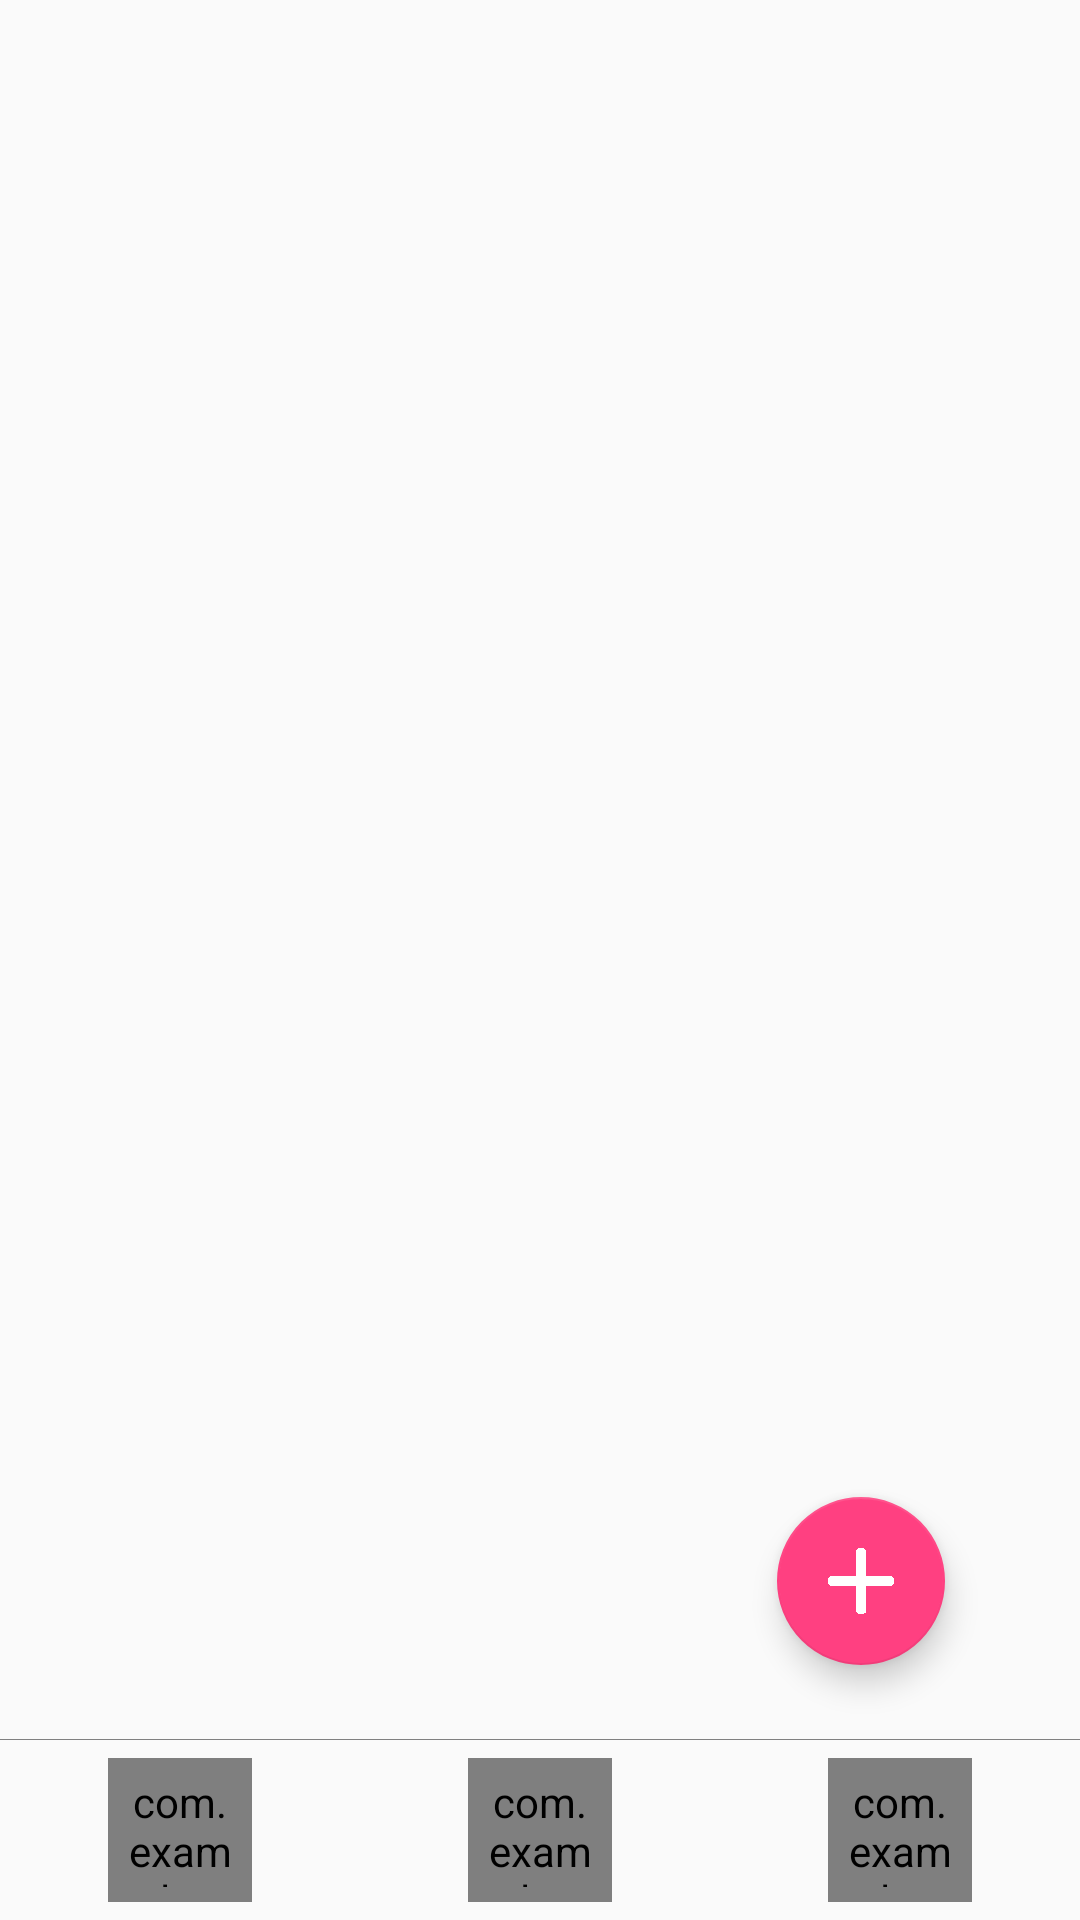

Point at icon controls on the screen. Image size 1080 × 1920, points as [x,y].
add: [861,1581]
